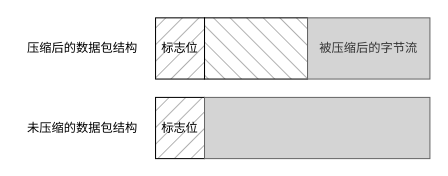
Image size: 448x176. Some labels were removed from this diagram. The box of each missing label's shape, as (x1, y1, x2, y2) in pixels:
原始字节流: (203, 96, 430, 159)
原始数据包长度: (203, 17, 308, 79)
